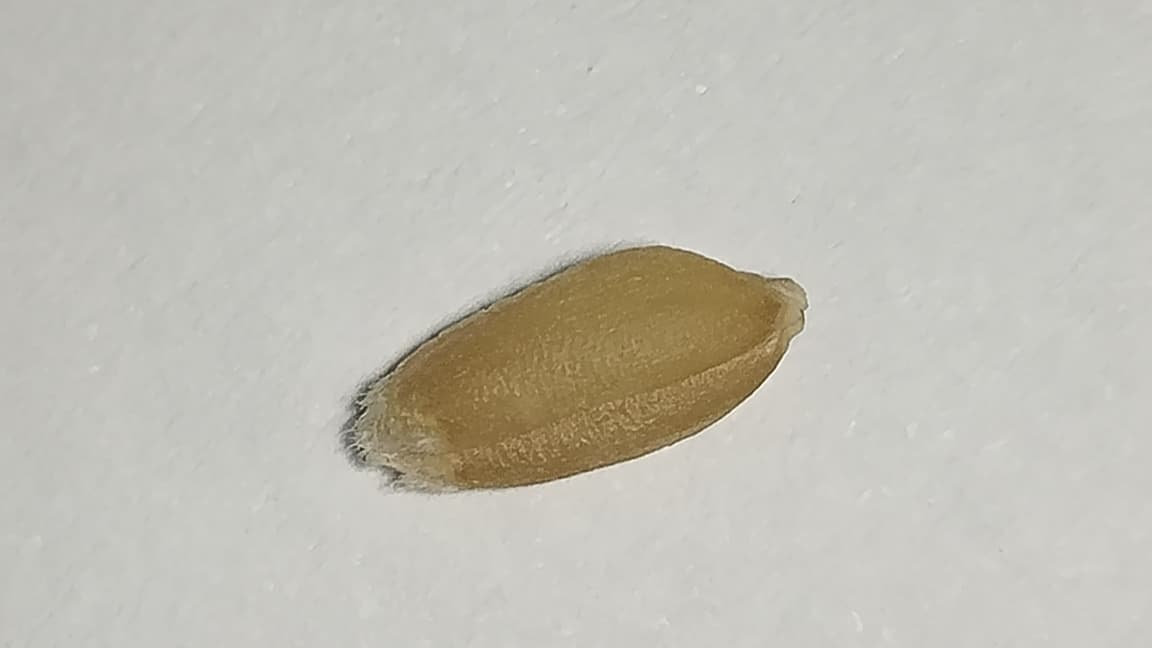healthy: (359, 246, 805, 489)
